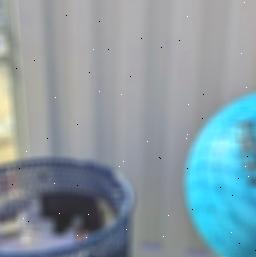algae: (183, 83, 256, 257)
